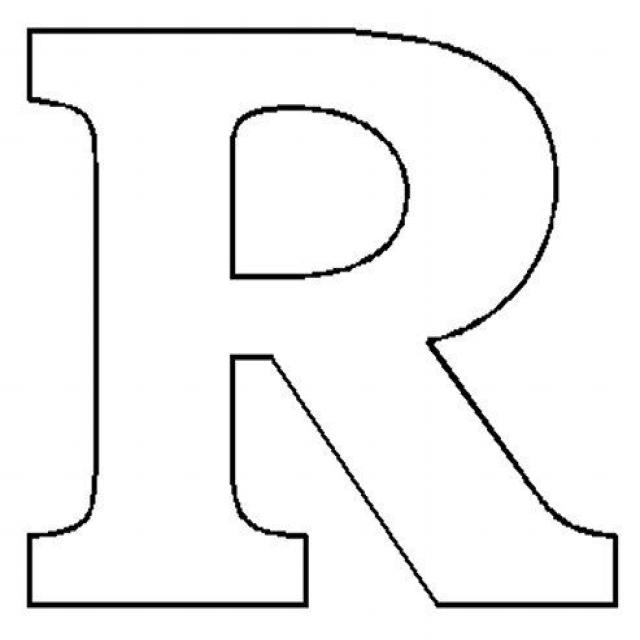R: (13, 12, 634, 620)
